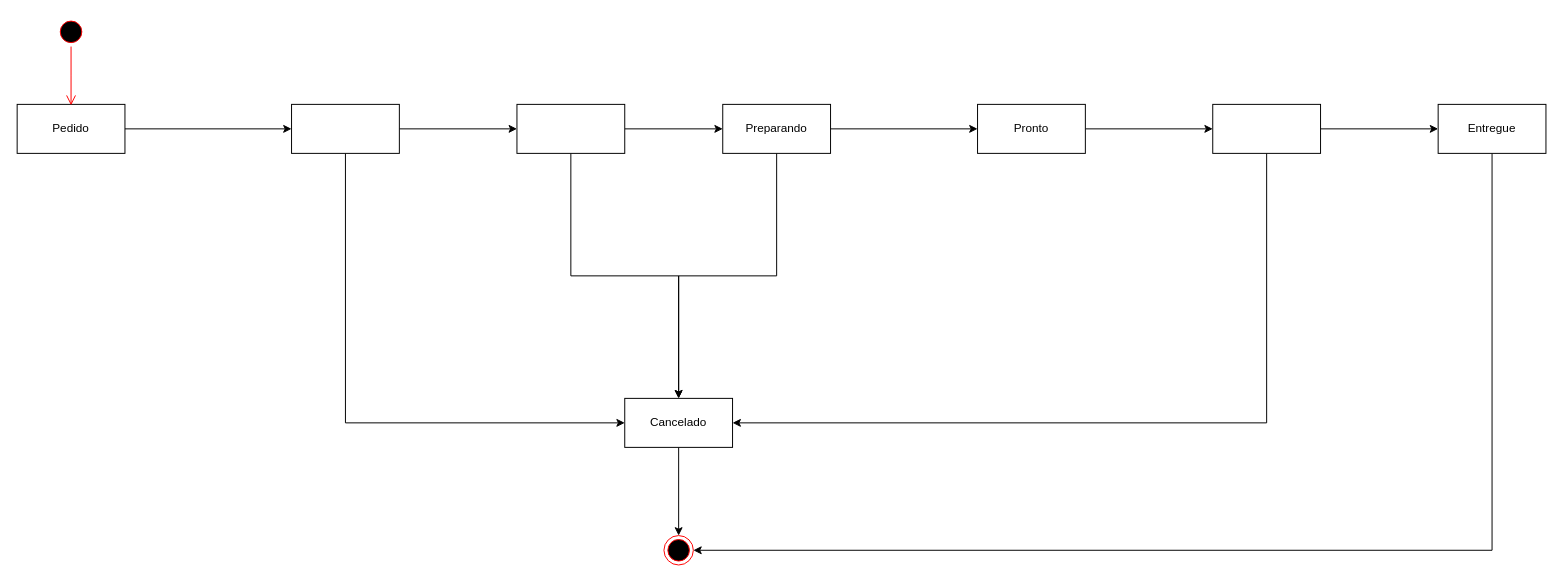
Image size: 1563x582. Some labels were removed from this diagram. The shapes that lost their labels are listed below. From the top down, each one's centre as x and y in pixels, then its label:
At point (345, 128): "Pago".
At point (570, 128): "Aguardando".
At point (1266, 128): "Entregando".
